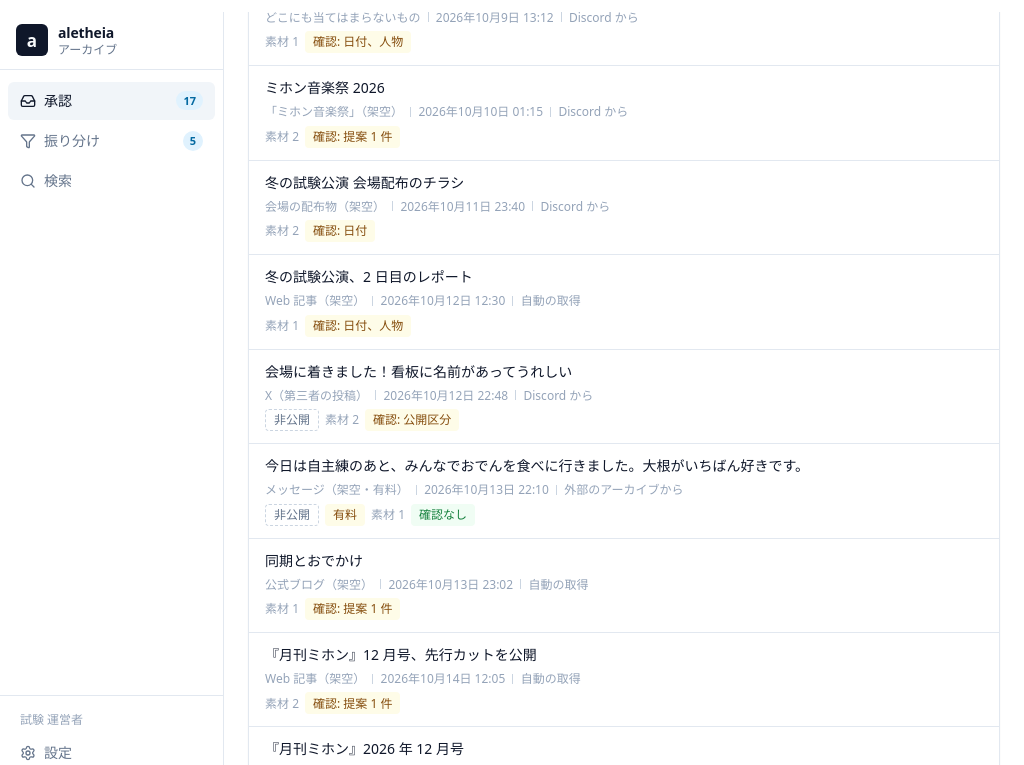
Scenario: 承認の画面 › 第三者の投稿は、公開してよいかを決めるまで承認できない
(page scrolled)
Click the link "会場に着きました！看": (429, 396) top-left (265, 362), bottom-right (593, 431)
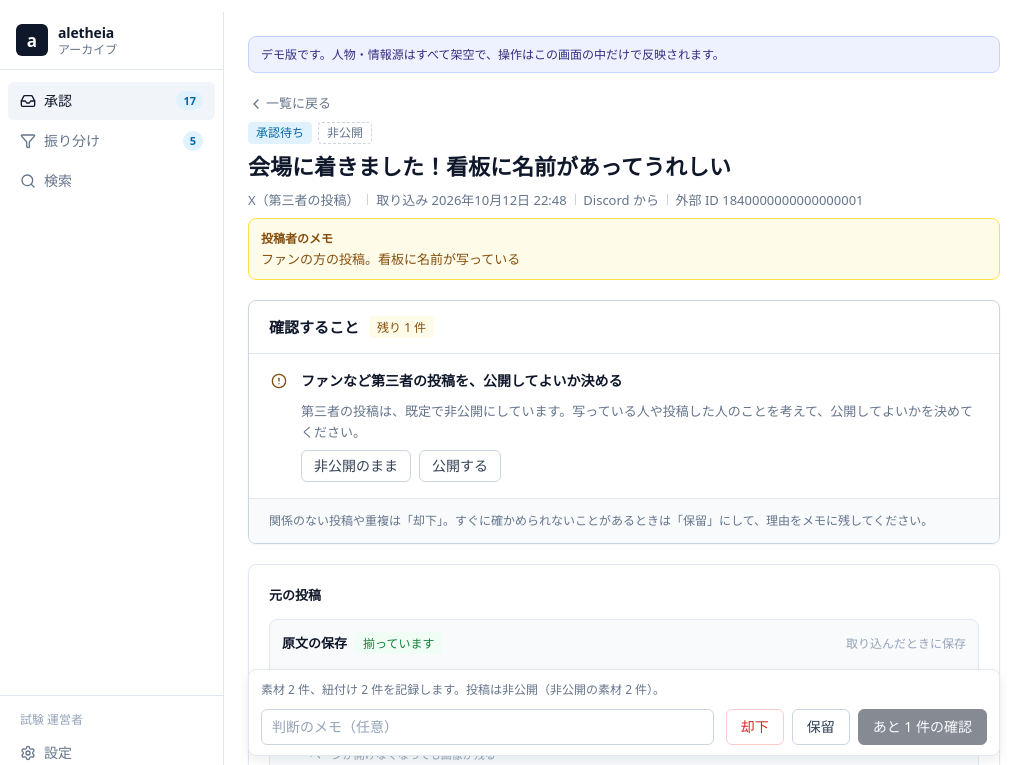
Click the button "非公開のまま": (356, 466) top-left (301, 450), bottom-right (411, 482)
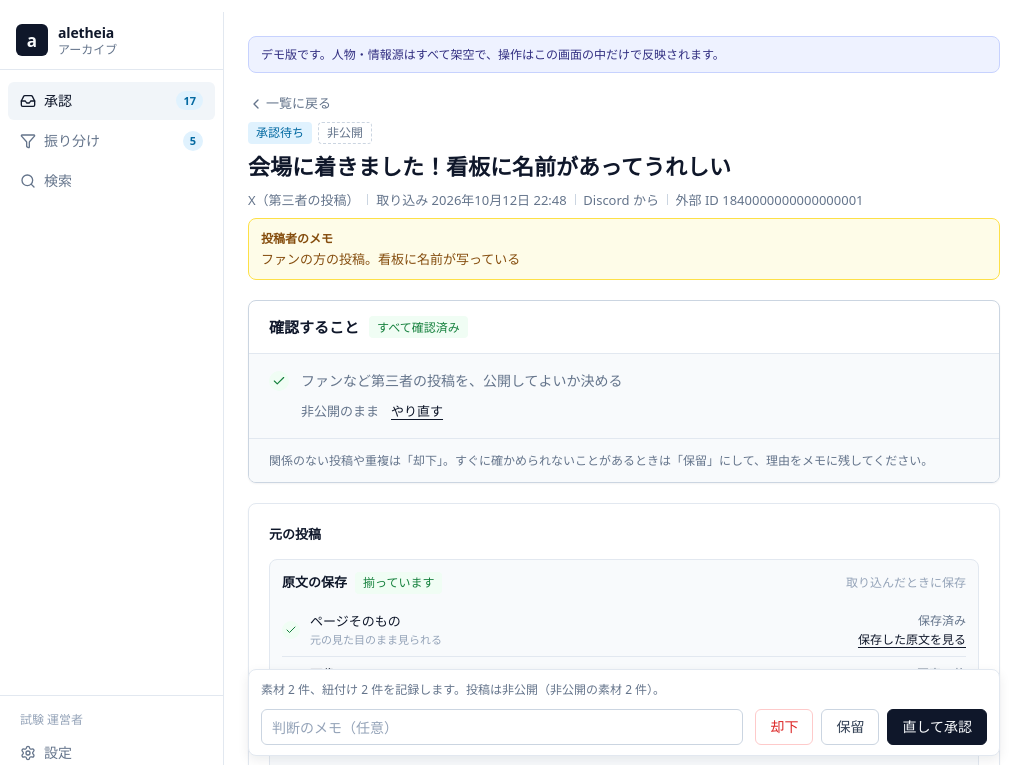
Result: the text "すべて確認済み" is shown at top-left (369, 316), bottom-right (468, 338)
